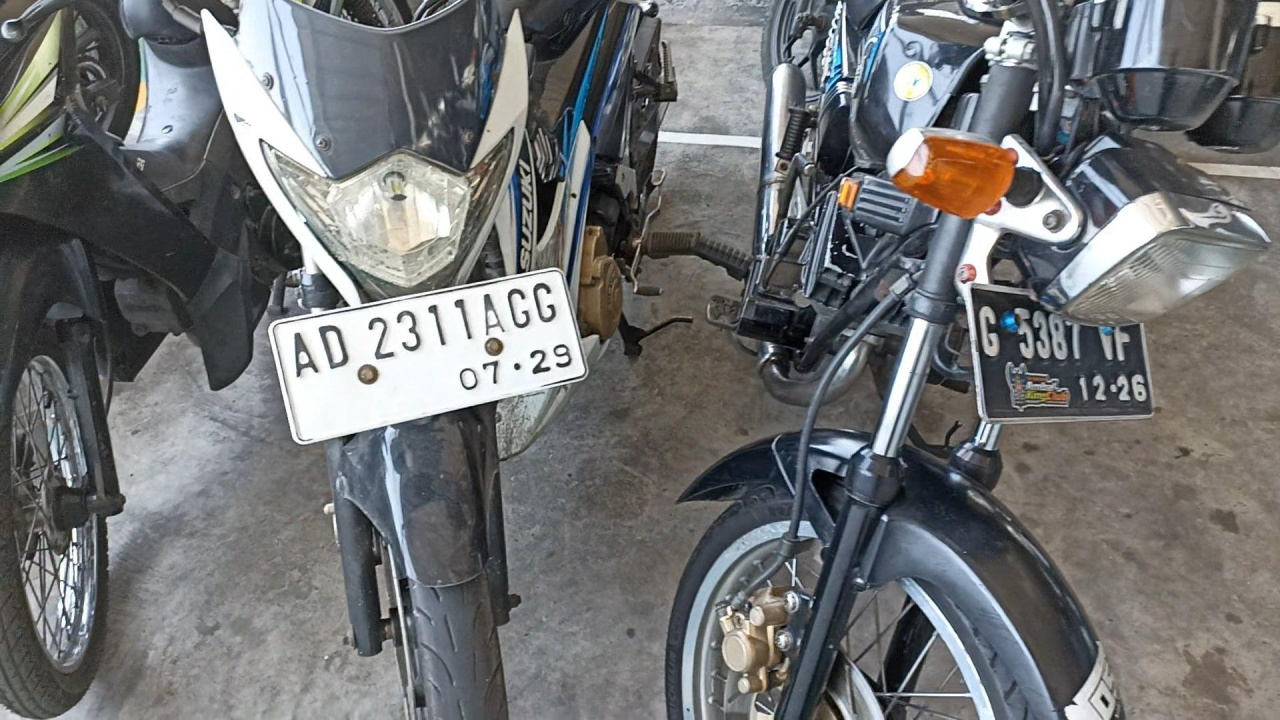plate: (271, 266, 590, 444)
